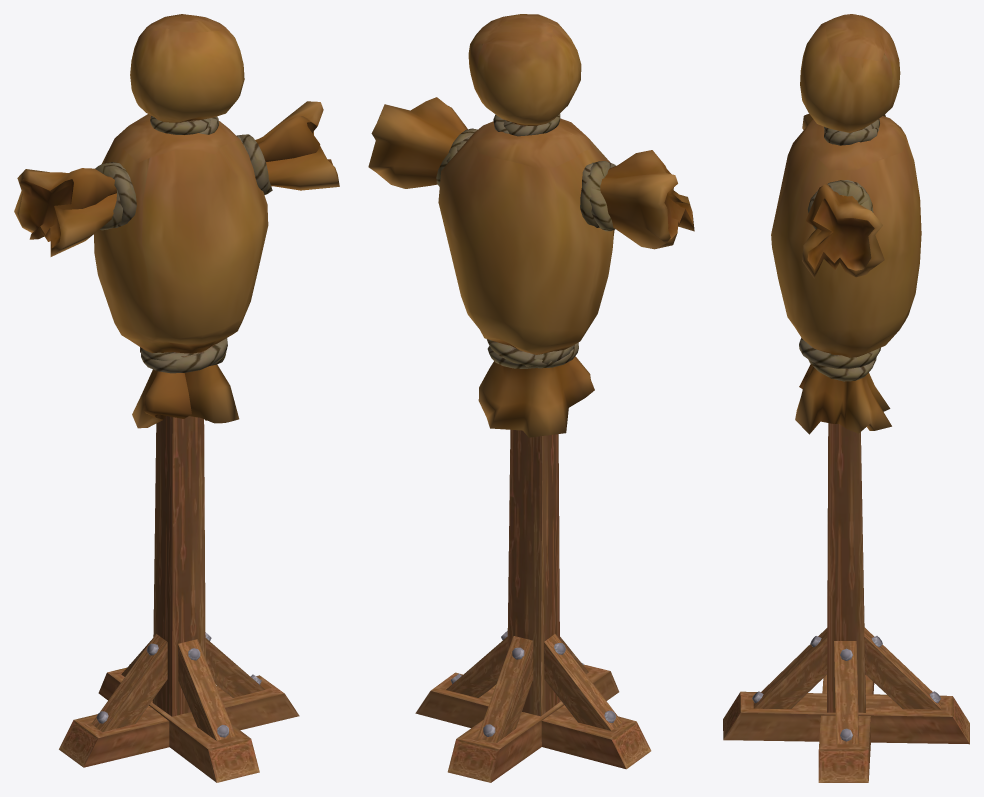
The model's file is prop_dummy.glb.
The picture shows the model from 3 angles, left to right: view 1: azimuth 30°, elevation 25°; view 2: azimuth 150°, elevation 25°; view 3: azimuth 270°, elevation 25°; orthographic projection.
Parts seen in each view (by area): view 1: Dummy; view 2: Dummy; view 3: Dummy.
Part boxes in pixels (x1,y1,x2,y2): Dummy: [14, 14, 339, 782]; Dummy: [368, 14, 694, 782]; Dummy: [723, 14, 969, 782].
Bounding box in the file's own units: 0.8085 × 1.86 × 0.5846.
3 materials, 3 textured.
